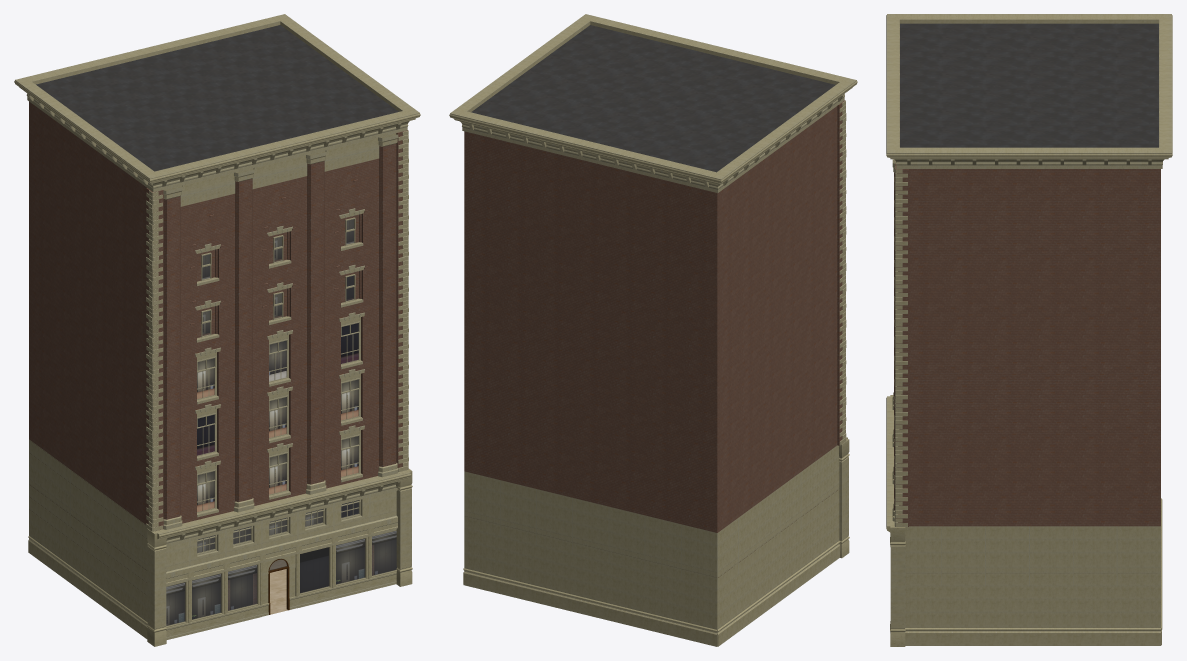
3 views of the same model, side by side, from view 1: azimuth 30°, elevation 25°; view 2: azimuth 150°, elevation 25°; view 3: azimuth 270°, elevation 25° (orthographic). The views are drawn at different scales.
Visible parts, largest first — view 1: Building_Medium_2.001; view 2: Building_Medium_2.001; view 3: Building_Medium_2.001.
Part boxes in pixels (box(x1,y1,x2,y2)): Building_Medium_2.001: box(14, 14, 420, 646); Building_Medium_2.001: box(449, 14, 857, 646); Building_Medium_2.001: box(886, 14, 1172, 646).
Bounding box in the file's own units: 15.06 × 25.01 × 13.06.
Materials: 8 (7 with a texture image).
